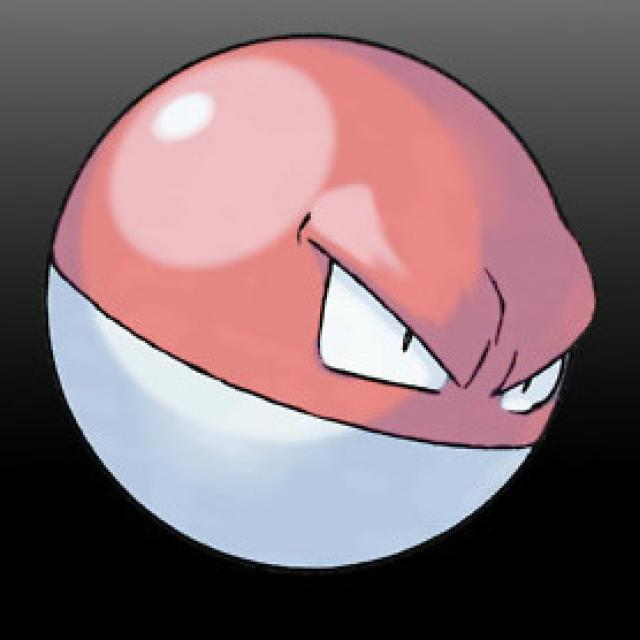Voltorb: (36, 36, 600, 571)
